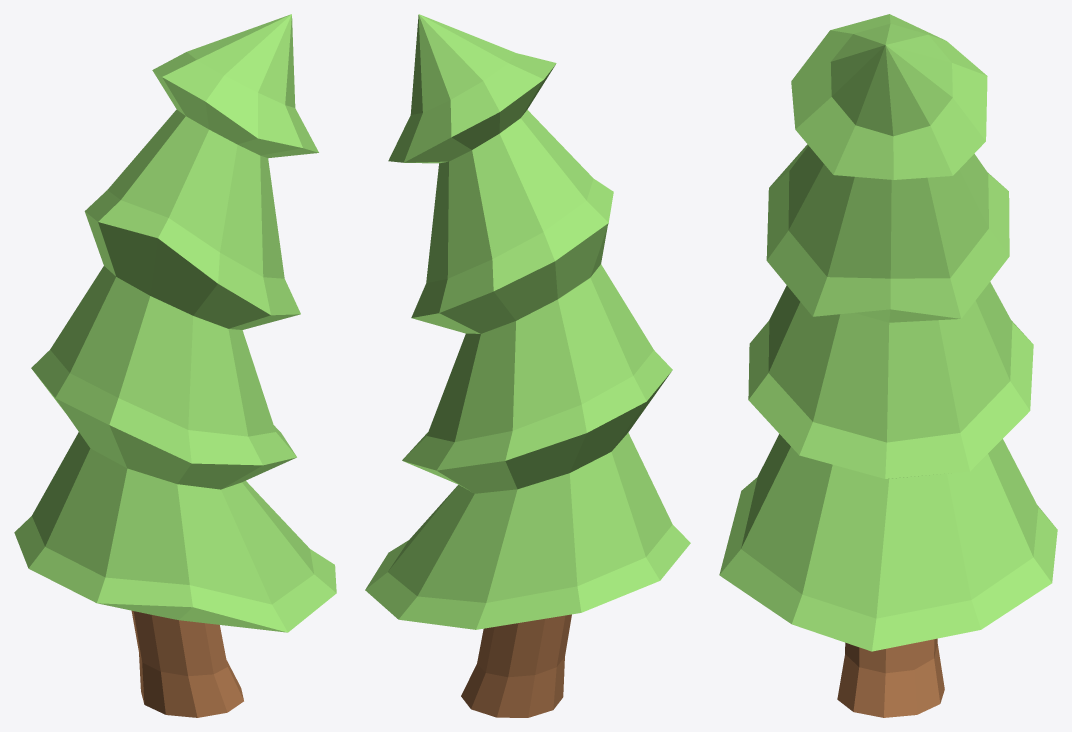
File: Tree3Rot.fbx
3 renders of one model, left to right at view 1: azimuth 30°, elevation 25°; view 2: azimuth 150°, elevation 25°; view 3: azimuth 270°, elevation 25°, orthographic. The views are drawn at different scales.
Visible parts, largest first — view 1: Tree3Rot; view 2: Tree3Rot; view 3: Tree3Rot.
Part boxes in pixels (bbox=[...]): Tree3Rot: bbox=[14, 14, 336, 717]; Tree3Rot: bbox=[365, 14, 690, 717]; Tree3Rot: bbox=[719, 14, 1057, 717].
Bounding box in the file's own units: 277 × 603 × 264.
